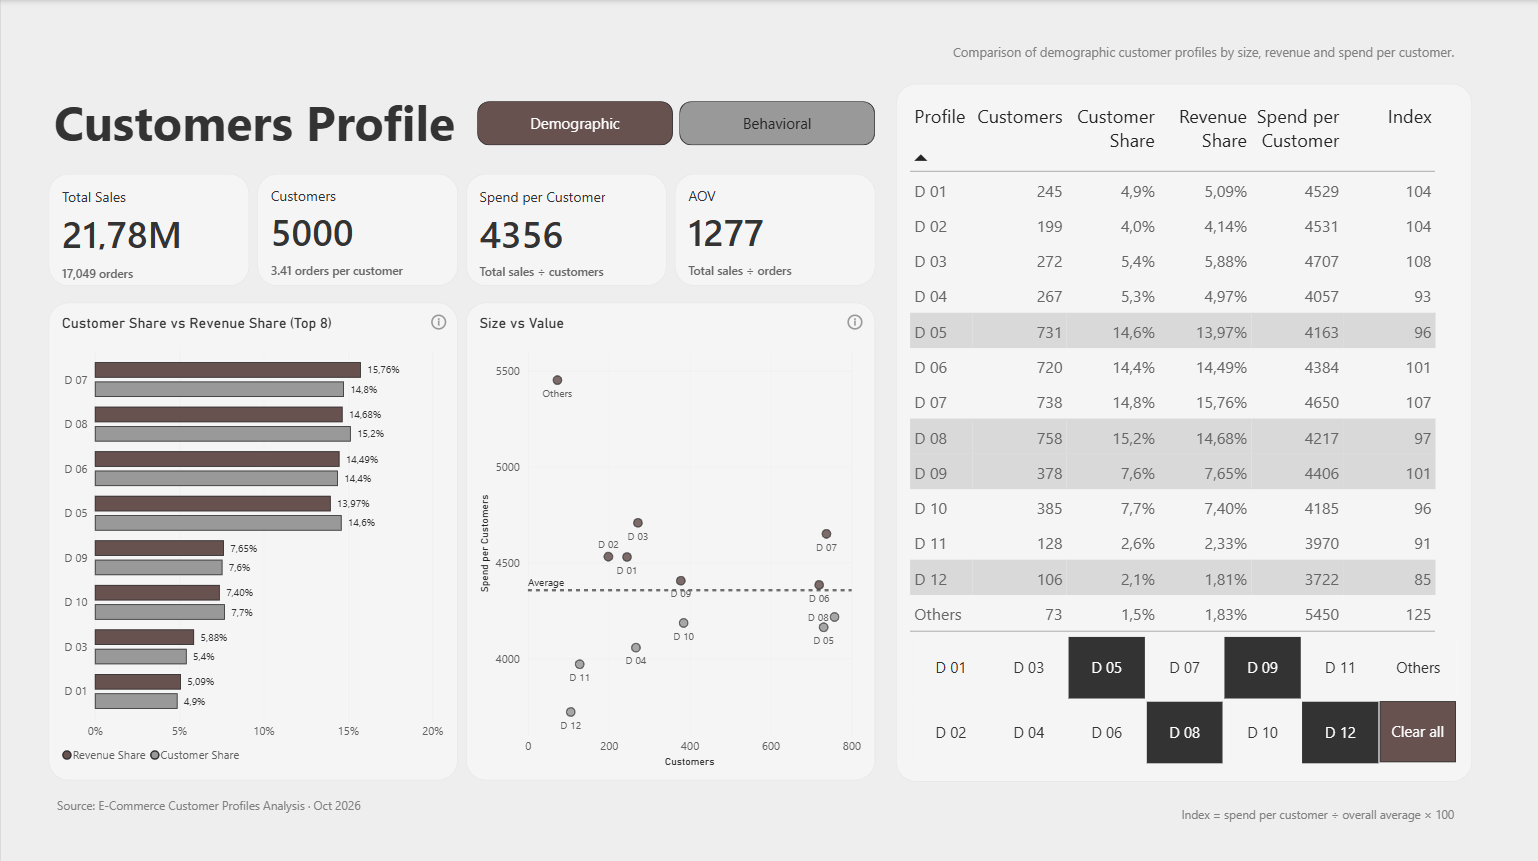

The page's visual inventory and layout, read from the dashboard file:
{"tool":"powerbi","page":{"name":"Demographic","canvas":[1920,1080],"ordinal":0},"visuals":[{"type":"tableEx","fields":{"Values":["melumat.Profile_D","_Measures.Müştəri Sayı","_Measures.Customer Share","_Measures.Gəlir Payı %","_Measures.Müştəri Başına Məbləğ","_Measures.Index"]},"box":[1116,104,718,870],"z":0},{"type":"cardVisual","fields":{"Data":["_Measures.Ümumi Satış"]},"box":[60,217,250,140],"z":1000},{"type":"cardVisual","fields":{"Data":["_Measures.Müştəri Sayı"]},"box":[320,217,250,140],"z":2000},{"type":"cardVisual","fields":{"Data":["_Measures.Müştəri Başına Məbləğ"]},"box":[580,217,250,140],"z":3000},{"type":"cardVisual","fields":{"Data":["_Measures.AOV"]},"box":[840,217,250,140],"z":4000},{"type":"scatterChart","title":"Size vs Value","fields":{"Category":["melumat.Profile_D"],"X":["_Measures.Müştəri Sayı"],"Y":["_Measures.Müştəri Başına Məbləğ"]},"box":[580,378,510,596],"z":5000},{"type":"clusteredBarChart","title":"Customer Share vs Revenue Share   (Top 8)","fields":{"Category":["melumat.Profile_D"],"Y":["_Measures.Gəlir Payı %","_Measures.Customer Share"]},"box":[60,378,510,596],"z":6000},{"type":"slicer","fields":{"Values":["Profile Selector.Profile"]},"box":[1116,792,718,162],"z":7000},{"type":"shape","box":[60,104,612,92],"z":8000},{"type":"pageNavigator","box":[594,126,496,55],"z":9000},{"type":"actionButton","box":[520,378,50,48],"z":10000},{"type":"actionButton","box":[1040,378,50,48],"z":11000},{"type":"actionButton","box":[1720,875,95,76],"z":12000},{"type":"shape","box":[65,975,672.5,60],"z":13000},{"type":"shape","box":[1145,985,672.5,60],"z":14000},{"type":"shape","box":[1145,35,672.5,60],"z":14001}]}

Visuals, with their boxes in screenshot pixels (x1, y1, x2, y2), scaled from the page's 1920x1080 canvas onto the 1538x861 screenshot:
tableEx - melumat.Profile_D x _Measures.Müştəri Sayı: bbox=[894, 83, 1469, 776]
cardVisual - _Measures.Ümumi Satış: bbox=[48, 173, 248, 285]
cardVisual - _Measures.Müştəri Sayı: bbox=[256, 173, 457, 285]
cardVisual - _Measures.Müştəri Başına Məbləğ: bbox=[465, 173, 665, 285]
cardVisual - _Measures.AOV: bbox=[673, 173, 873, 285]
"Size vs Value" scatterChart: bbox=[465, 301, 873, 776]
"Customer Share vs Revenue Share   (Top 8)" clusteredBarChart: bbox=[48, 301, 457, 776]
slicer - Profile Selector.Profile: bbox=[894, 631, 1469, 761]
shape: bbox=[48, 83, 538, 156]
pageNavigator: bbox=[476, 100, 873, 144]
actionButton: bbox=[417, 301, 457, 340]
actionButton: bbox=[833, 301, 873, 340]
actionButton: bbox=[1378, 698, 1454, 758]
shape: bbox=[52, 777, 591, 825]
shape: bbox=[917, 785, 1456, 833]
shape: bbox=[917, 28, 1456, 76]
